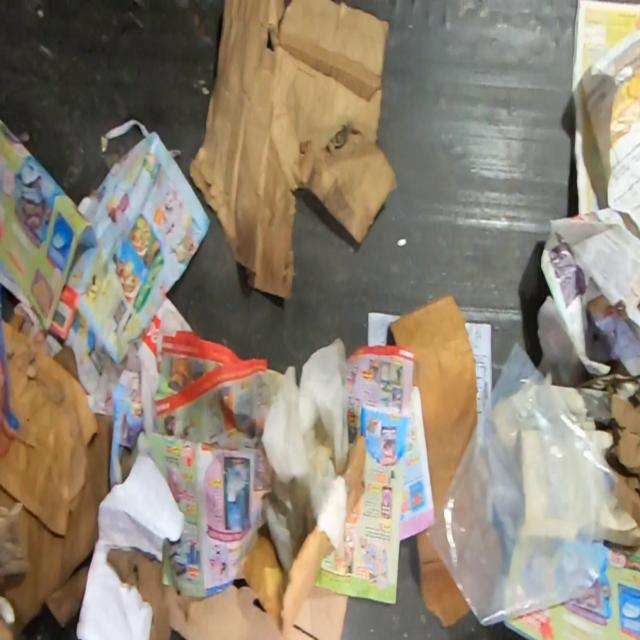cardboard: (188, 0, 400, 300), (0, 317, 114, 640), (388, 292, 476, 512), (236, 525, 350, 640), (162, 584, 284, 640), (105, 547, 172, 640), (416, 531, 470, 628), (341, 434, 366, 523)
soft_plastic: (424, 339, 617, 628), (260, 335, 350, 570)
